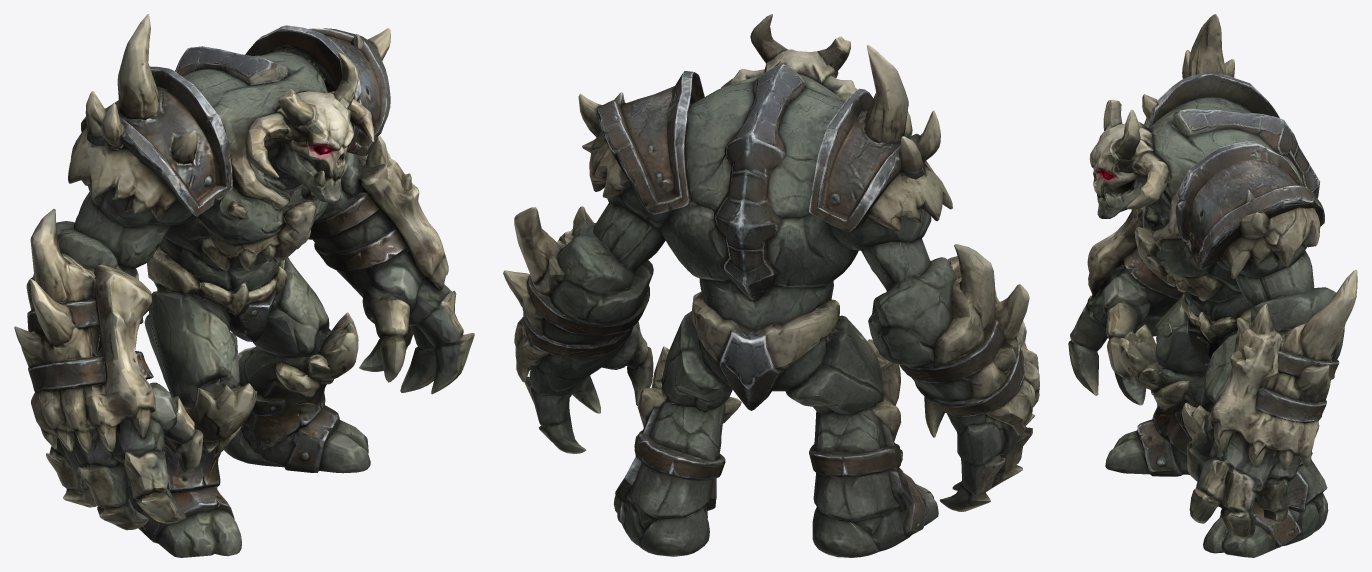
File: mdl-monster.glb
3 renders of one model, left to right at view 1: azimuth 30°, elevation 25°; view 2: azimuth 150°, elevation 25°; view 3: azimuth 270°, elevation 25°, orthographic. The views are drawn at different scales.
Bounding box in the file's own units: 1.82 × 1.9 × 1.12.
1 material, 1 textured.
